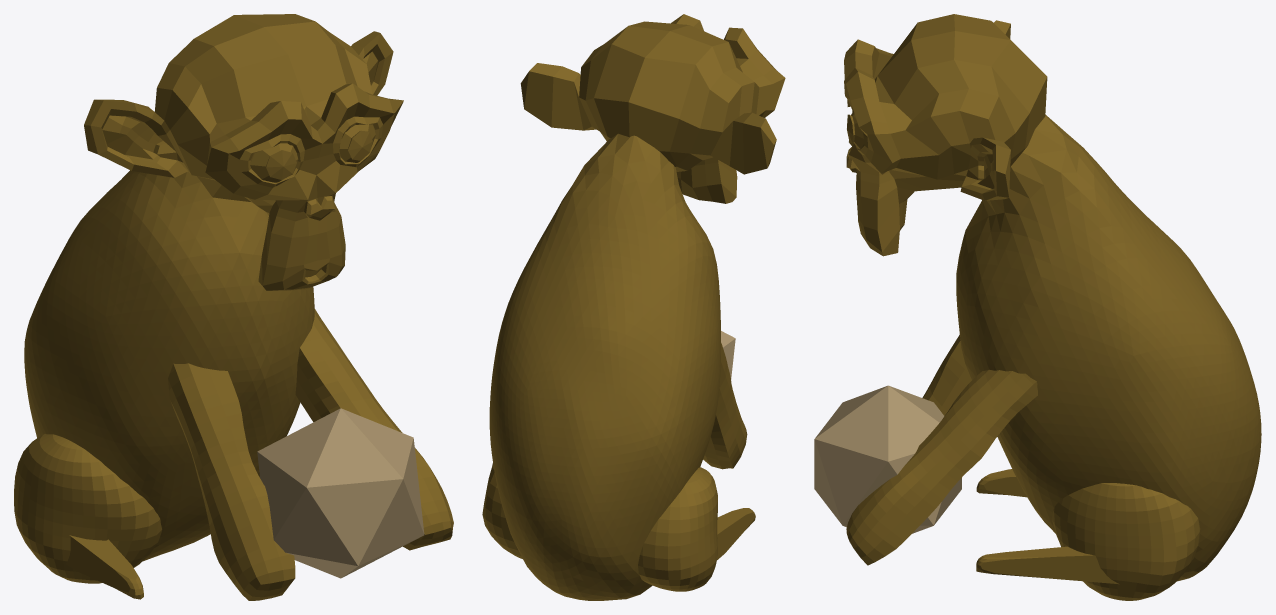
The model's file is monkey.fbx.
3 views of the same model, side by side, from view 1: azimuth 30°, elevation 25°; view 2: azimuth 150°, elevation 25°; view 3: azimuth 270°, elevation 25° (orthographic). The views are drawn at different scales.
Parts seen in each view (by area): view 1: Icosphere.004; view 2: Icosphere.004; view 3: Icosphere.004.
Part boxes in pixels (box(x1,y1,x2,y2)): Icosphere.004: box(14, 14, 453, 600); Icosphere.004: box(482, 14, 785, 600); Icosphere.004: box(814, 14, 1261, 600).
Bounding box in the file's own units: 1.65 × 3.07 × 2.25.
